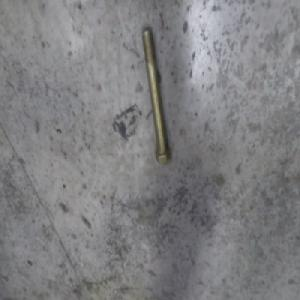Bolt: (137, 26, 171, 162)
